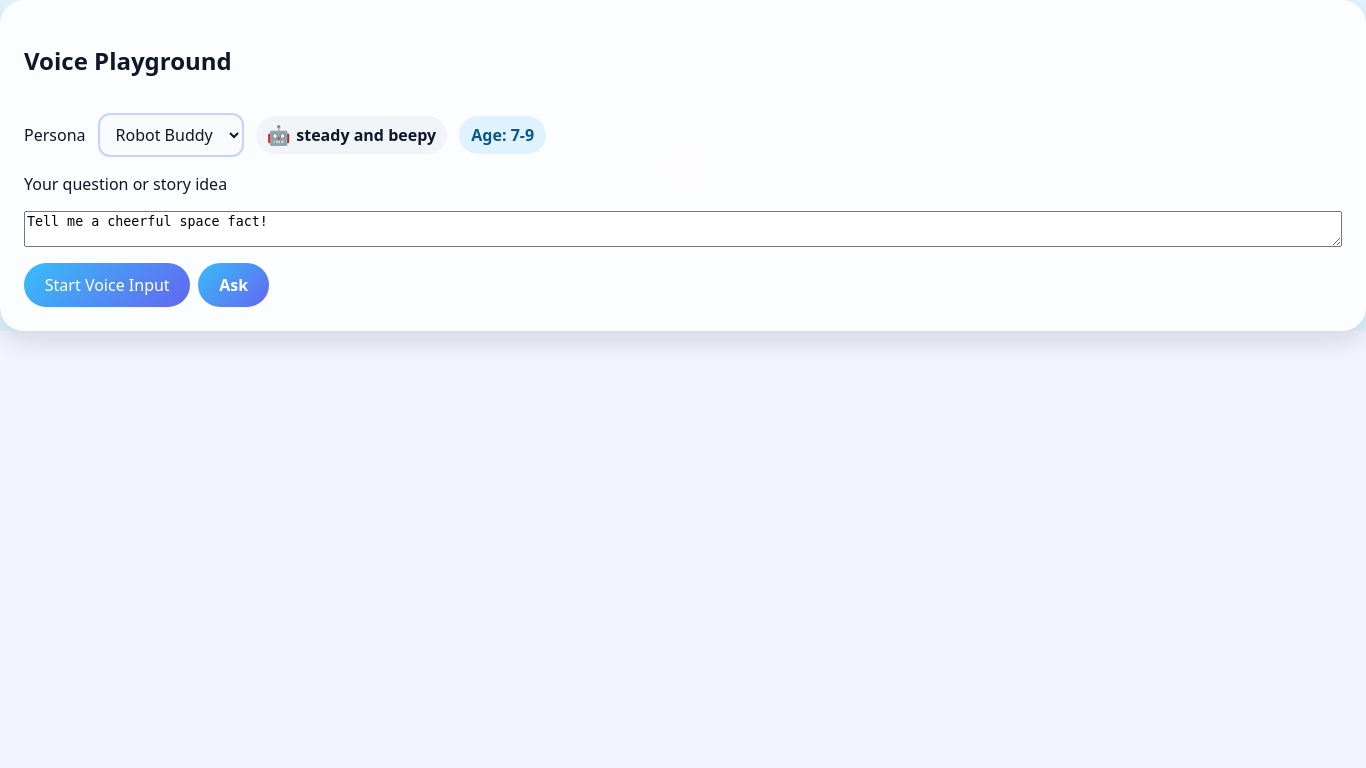
Test: VoiceBar stale-state handling › keeps the transcript but clears the replay control when a later request fails
The image size is (1366, 768).
Click the button "Ask".
click(234, 285)  # box x1=198 y1=263 x2=269 y2=307
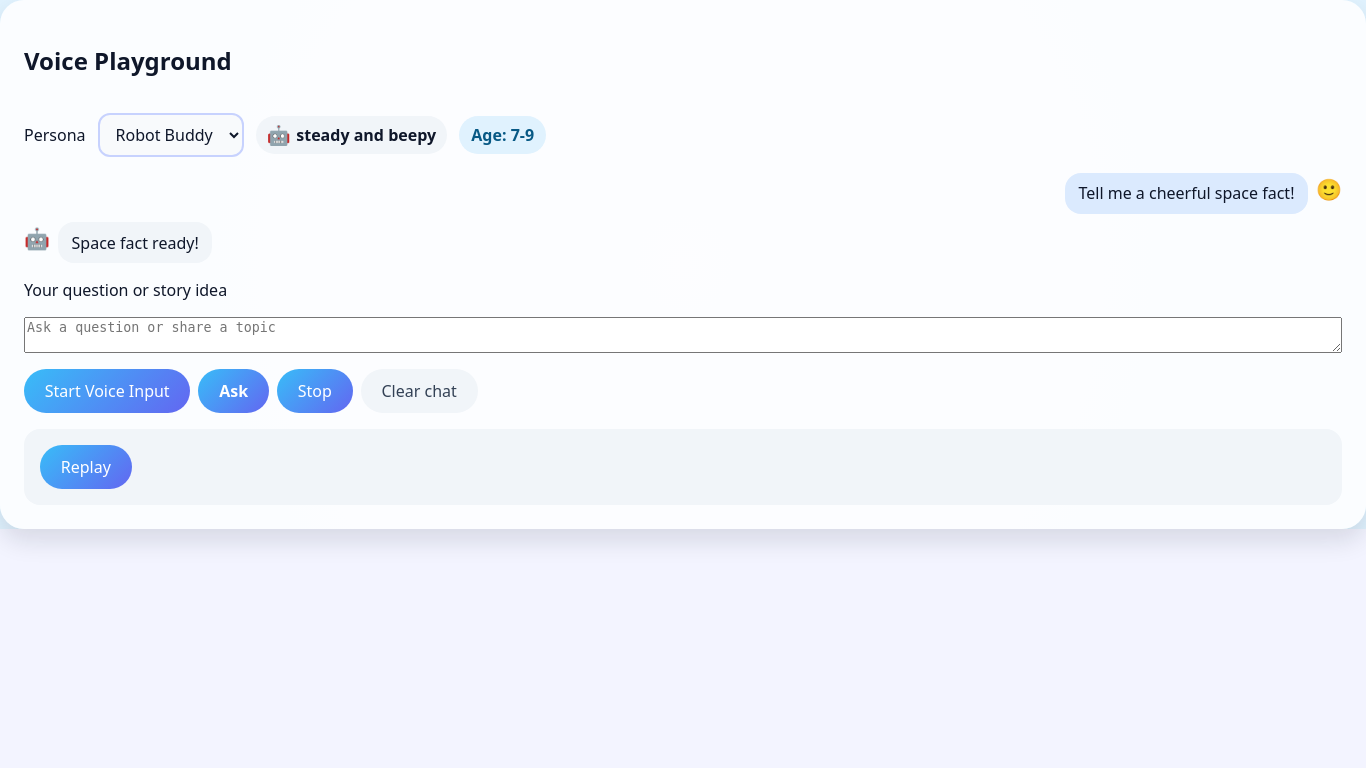
Now the text "Space fact ready!" is shown, box x1=58 y1=222 x2=212 y2=263
Now the button "Replay" is shown, box x1=40 y1=445 x2=132 y2=489
Type "Another?" into the text box labelled "Your question or story idea".
click(683, 335); type("Another?")  # box x1=24 y1=317 x2=1342 y2=353
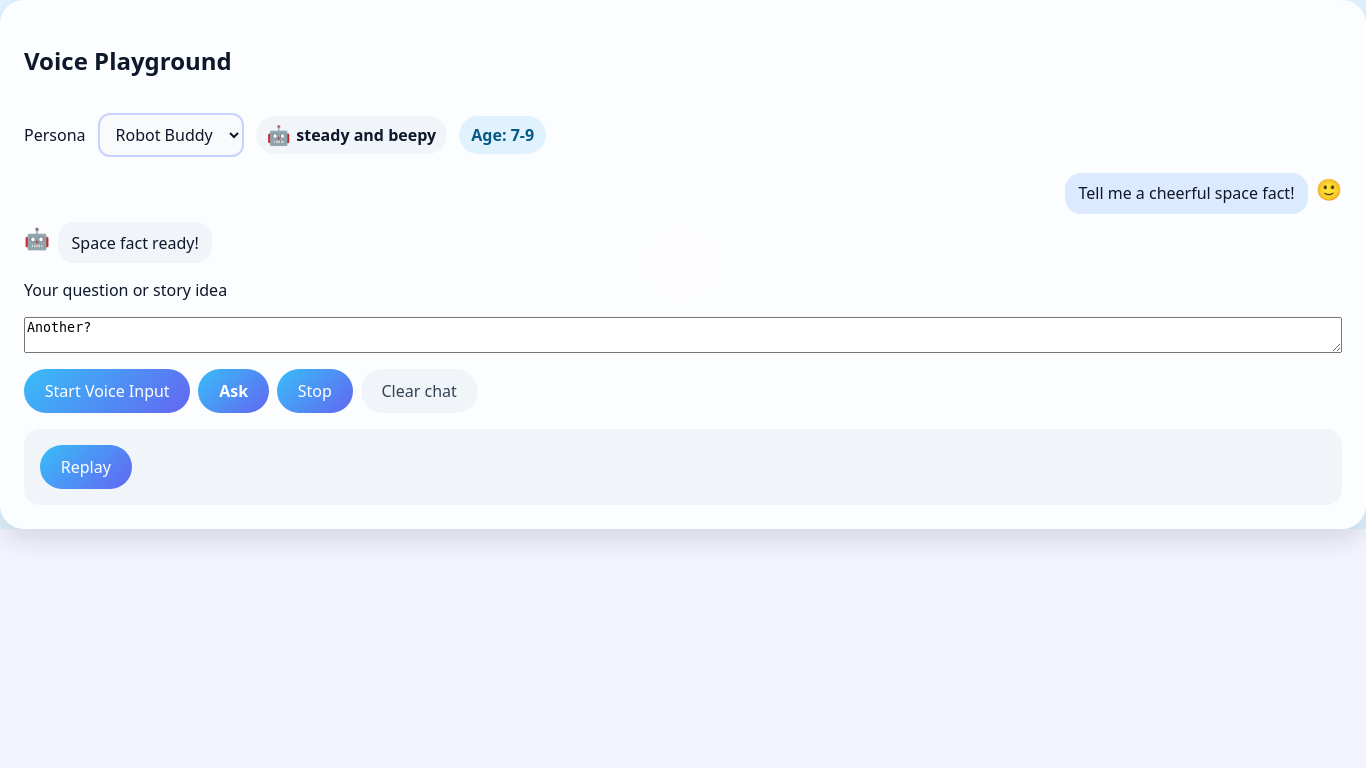
Click the button "Ask".
click(234, 391)  # box x1=198 y1=369 x2=269 y2=413
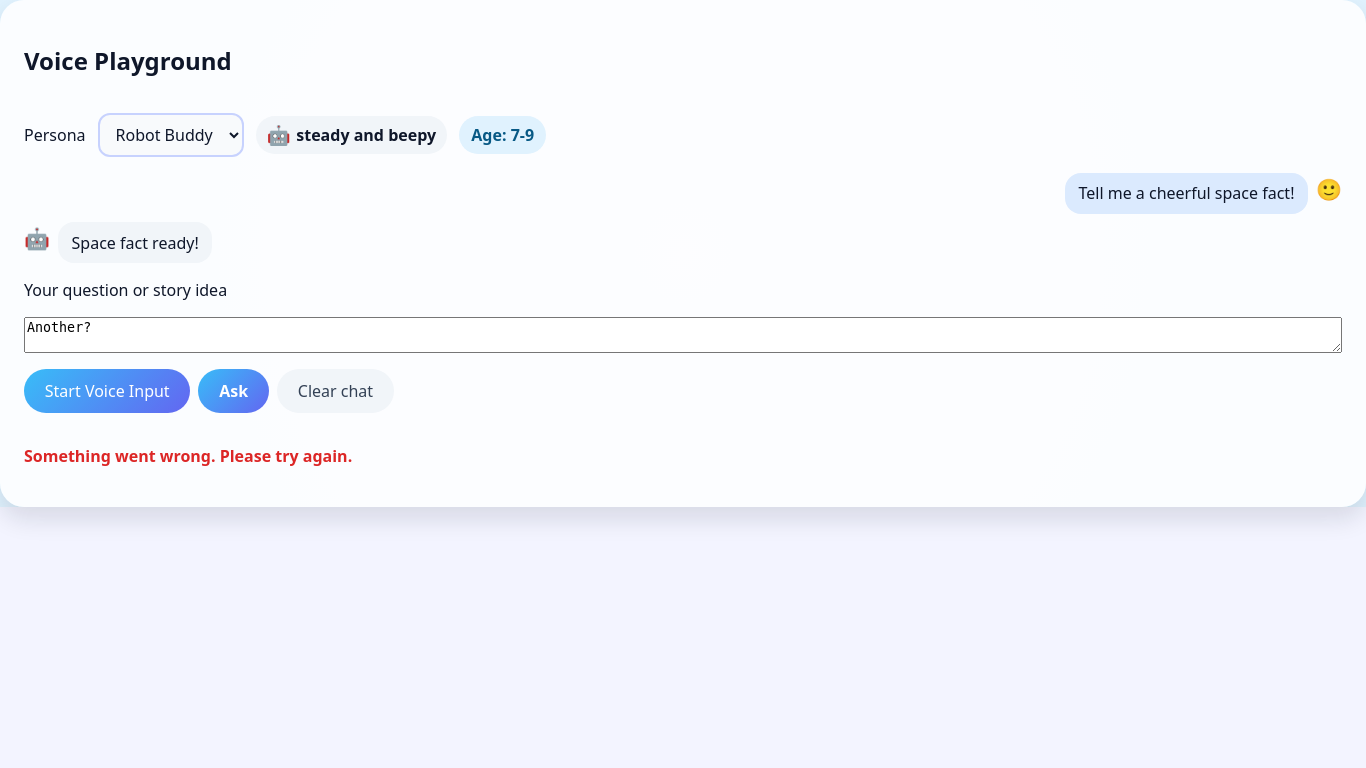
Now the text "Space fact ready!" is shown, box x1=58 y1=222 x2=212 y2=263
Now the button "Replay" is gone
